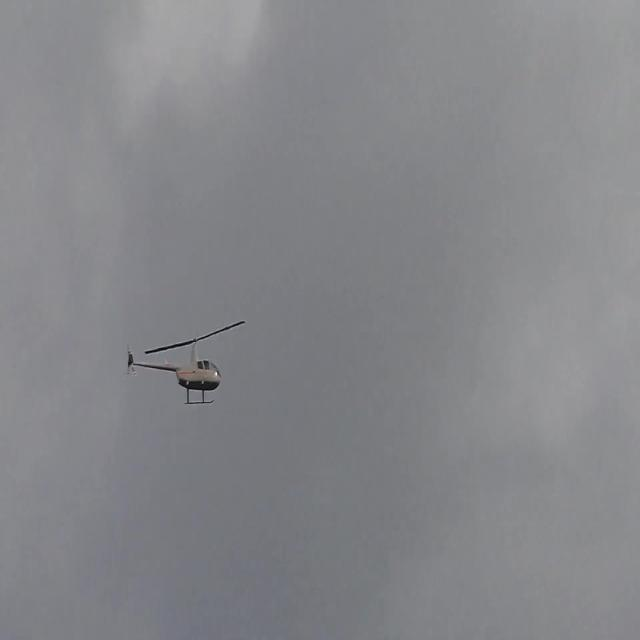CIV_HELO: (127, 338, 222, 406)
